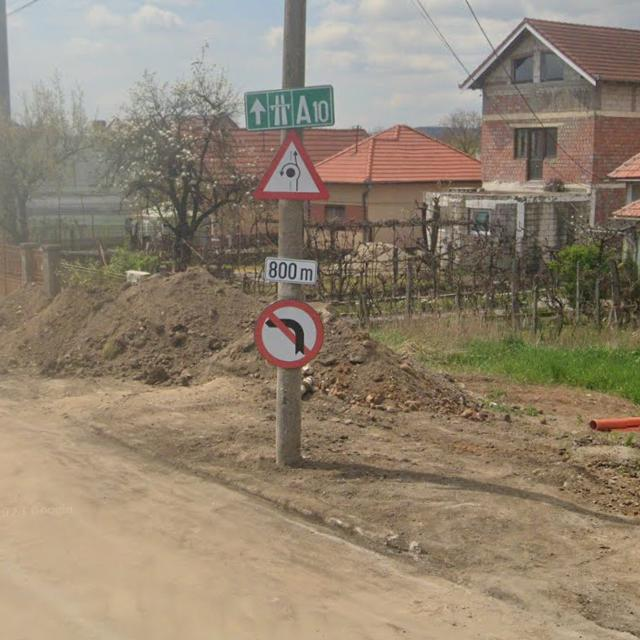forb_left: (254, 299, 324, 368)
info_highway: (269, 90, 293, 128)
